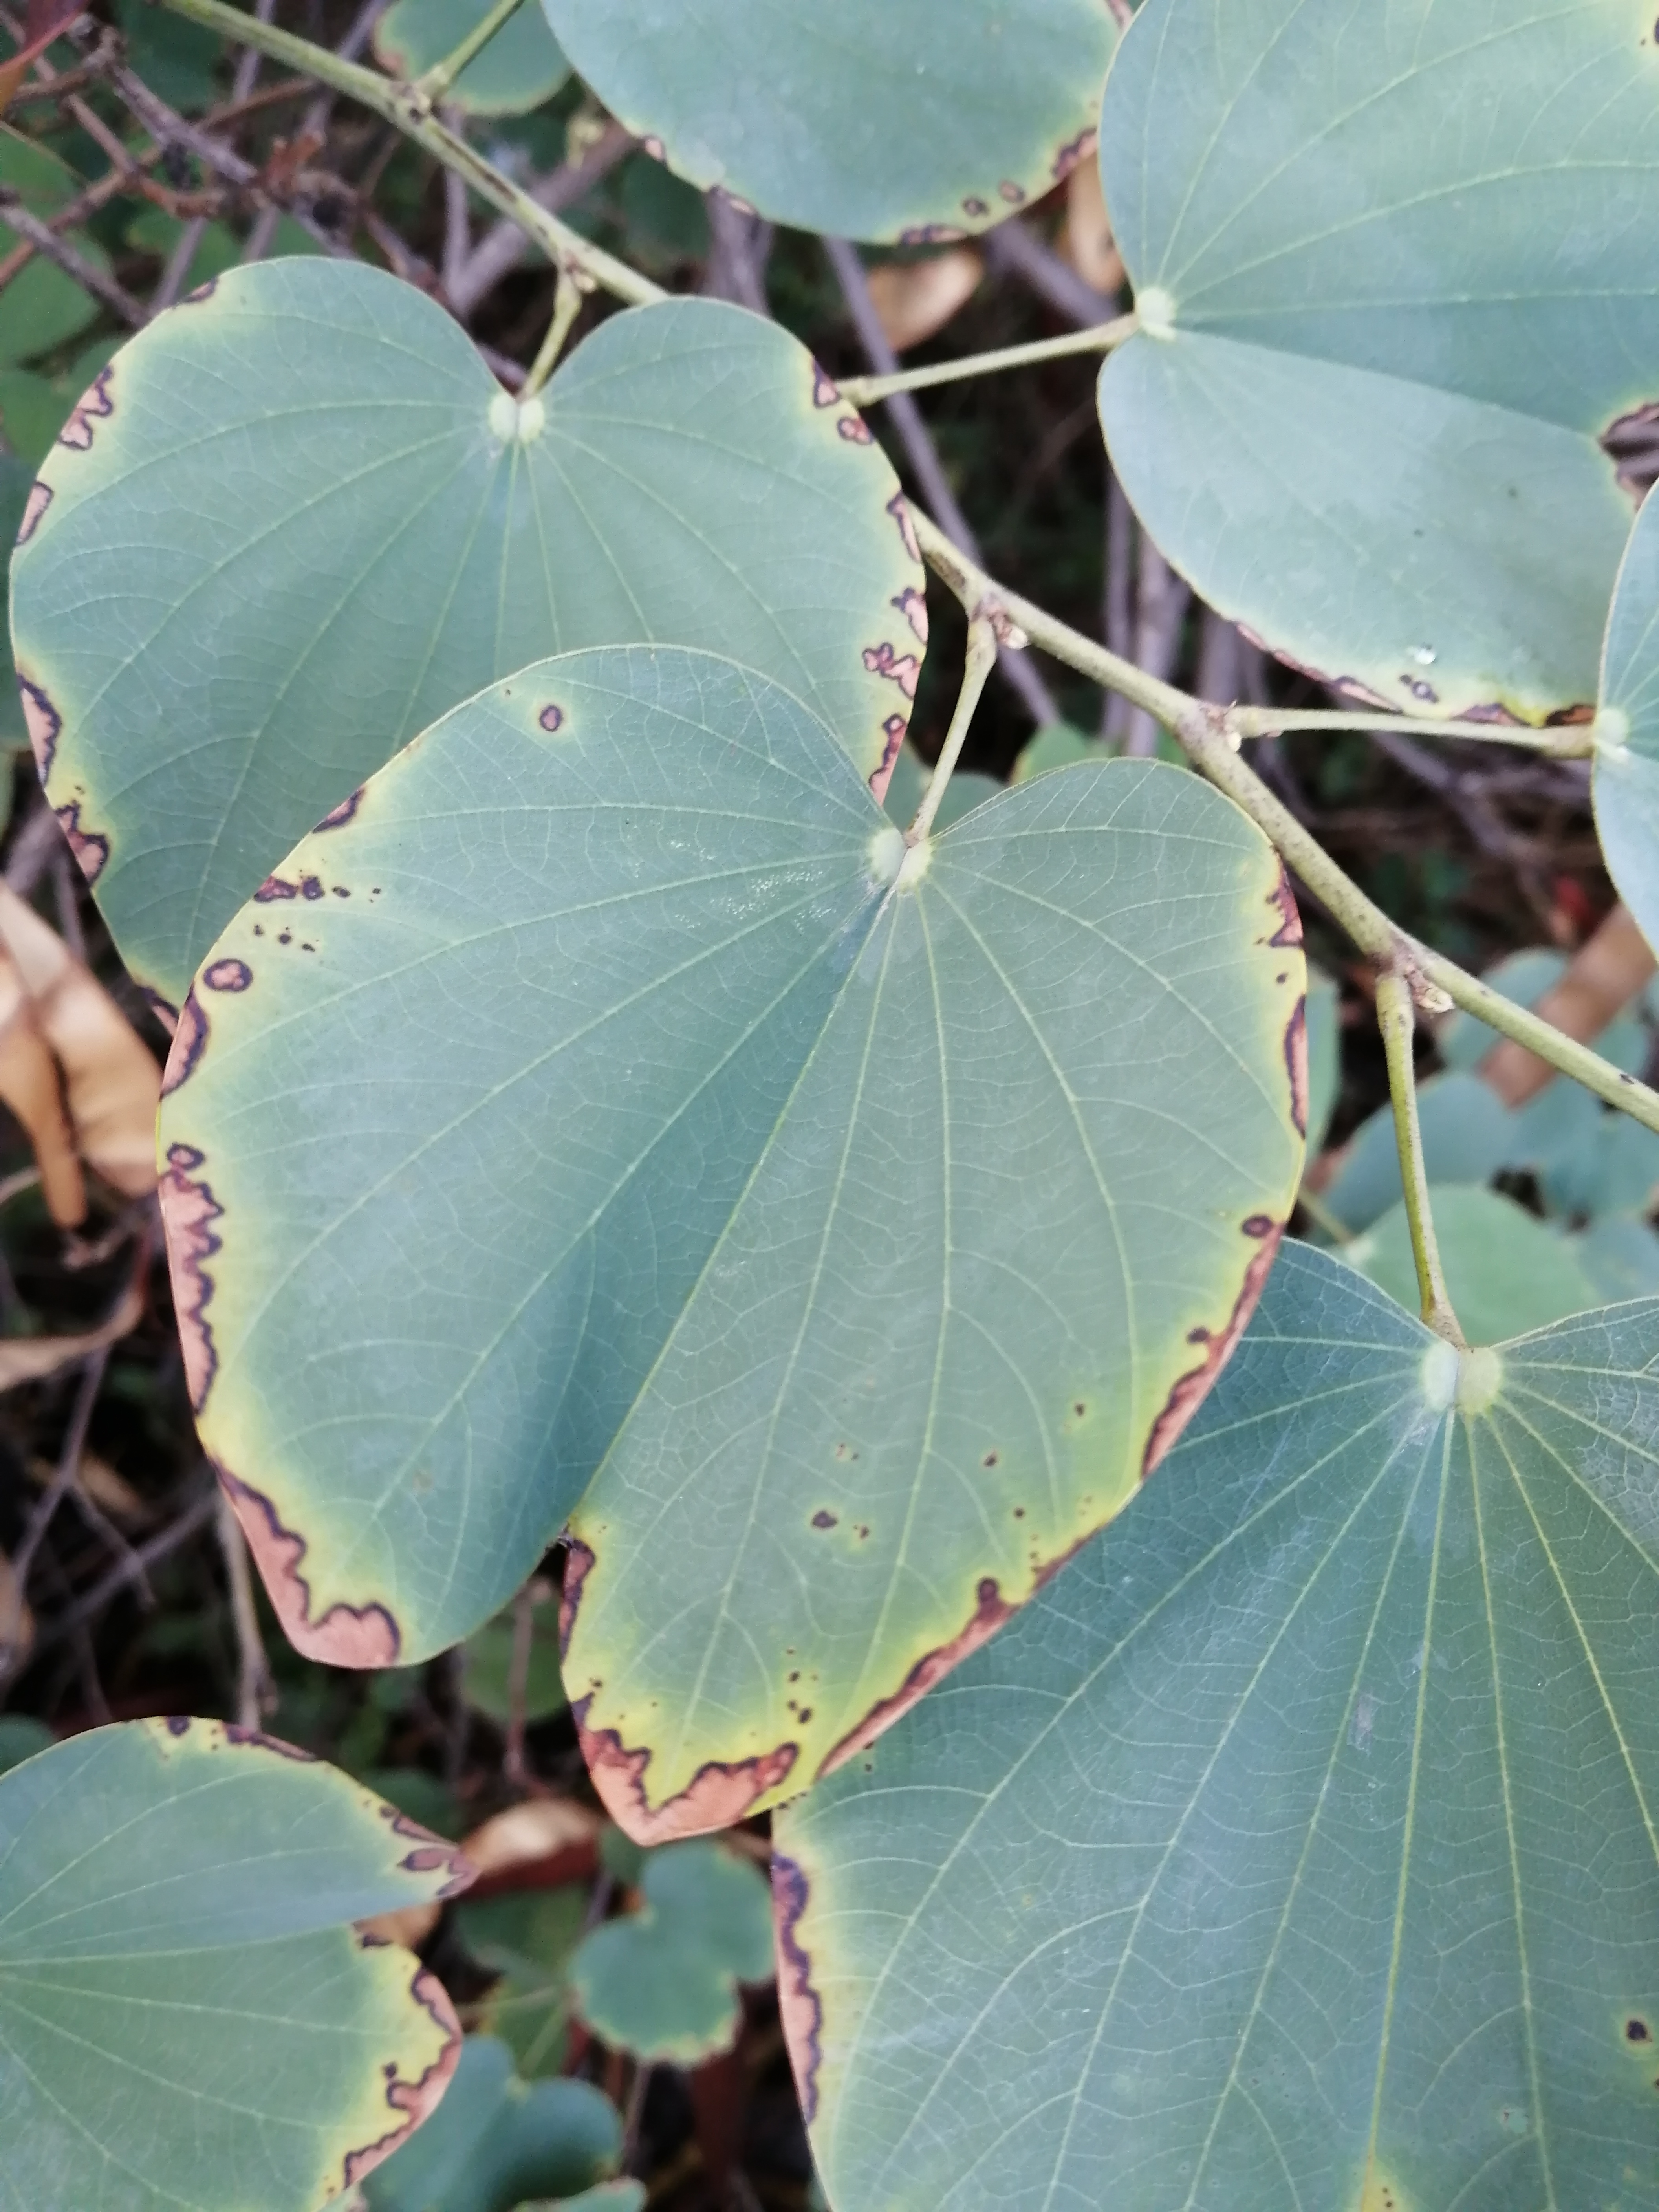nothealthy: (105, 601, 1351, 1872), (0, 214, 1051, 1003), (0, 1651, 514, 2184)
